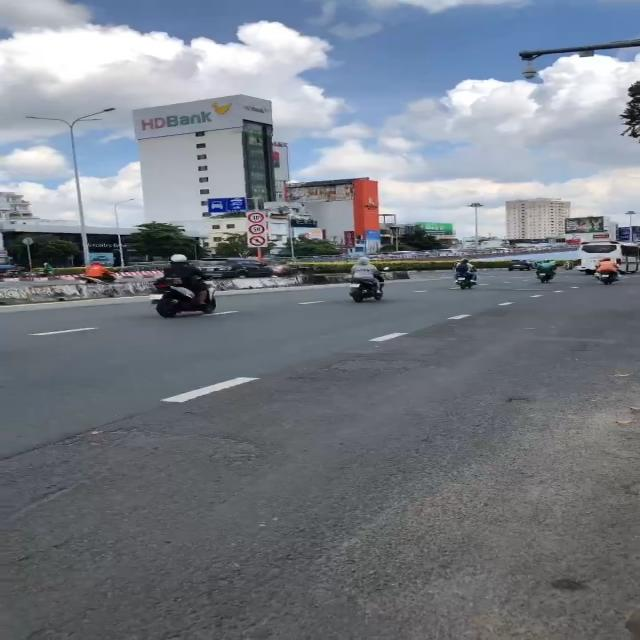Bien bao cam nguoi di bo: (247, 234, 267, 247)
Bien bao toc do toi da cho phep: (248, 224, 266, 235)
